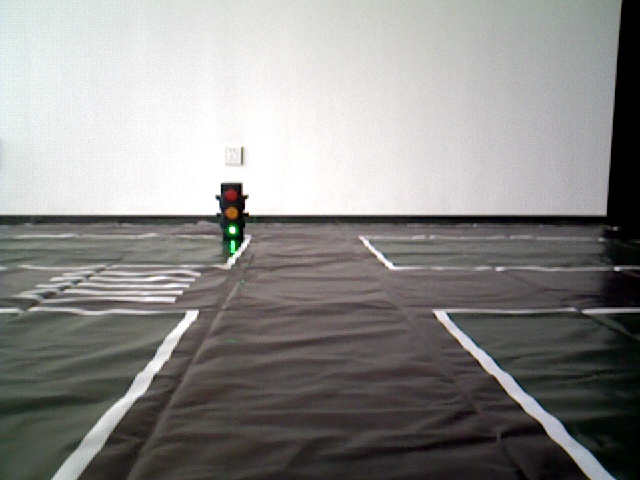green: (220, 185, 242, 235)
